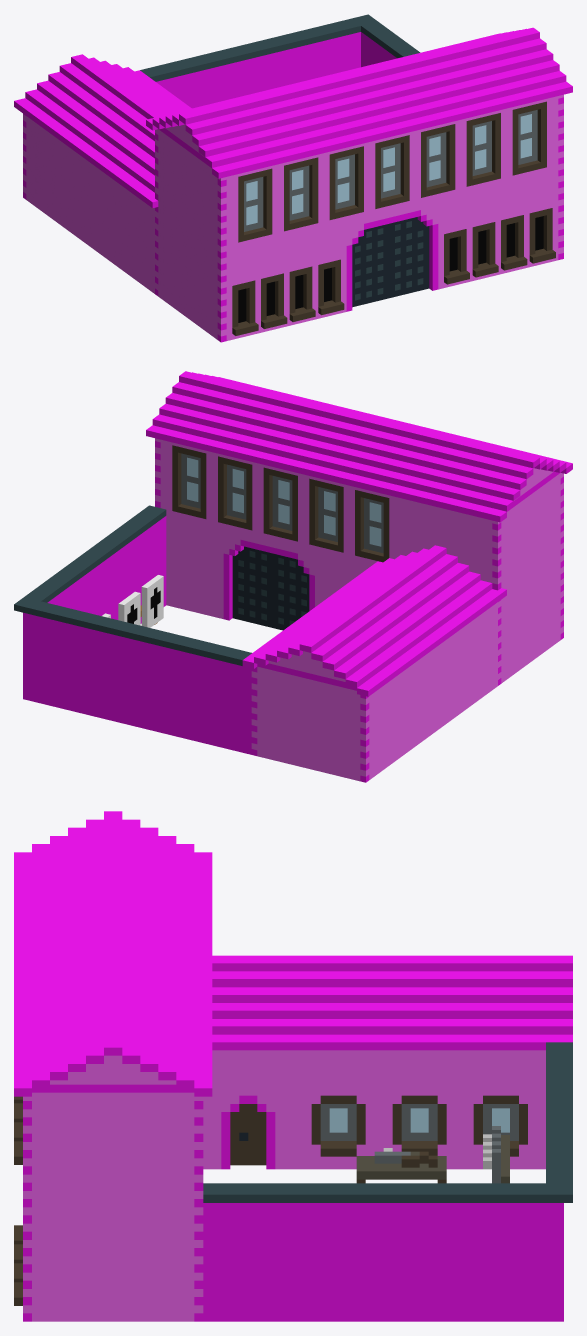
File: barracks.obj
3 views of the same model, one above another, from view 1: azimuth 30°, elevation 25°; view 2: azimuth 150°, elevation 25°; view 3: azimuth 270°, elevation 25° (orthographic). The views are drawn at different scales.
Size of the model in its own units: 6.2 by 3.4 by 6.2.
1 material, 1 textured.
